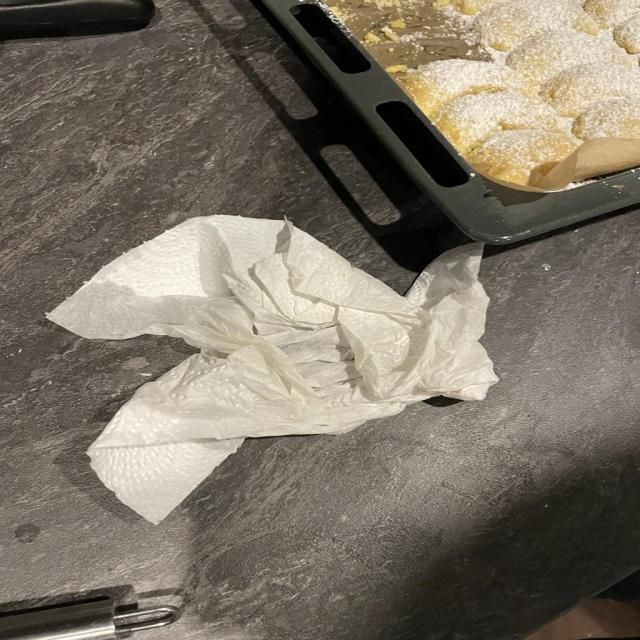kitchen paper: (44, 213, 510, 526)
